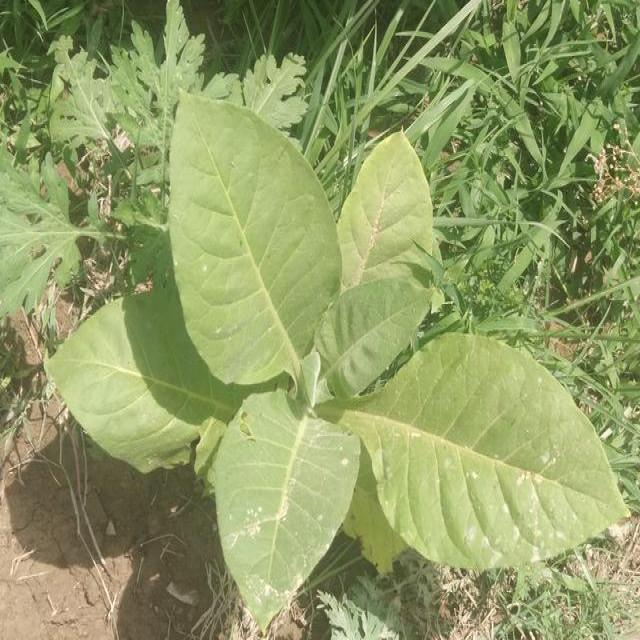crop: (51, 102, 628, 617)
